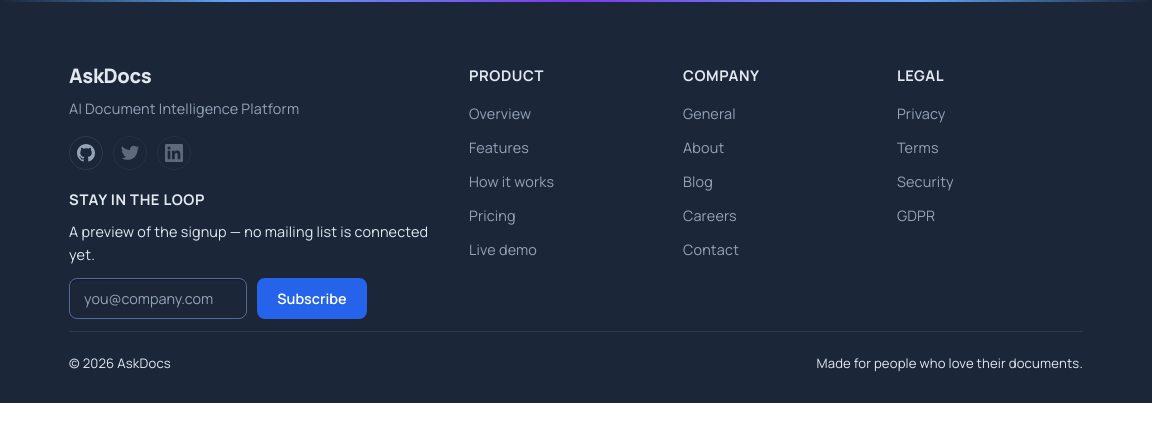
Test: LandingFooter newsletter submit › keeps the typed address and explains the problem when it is not valid
Type "not-an-address" into the field named "email" at (158, 298), box [69,278,247,319]
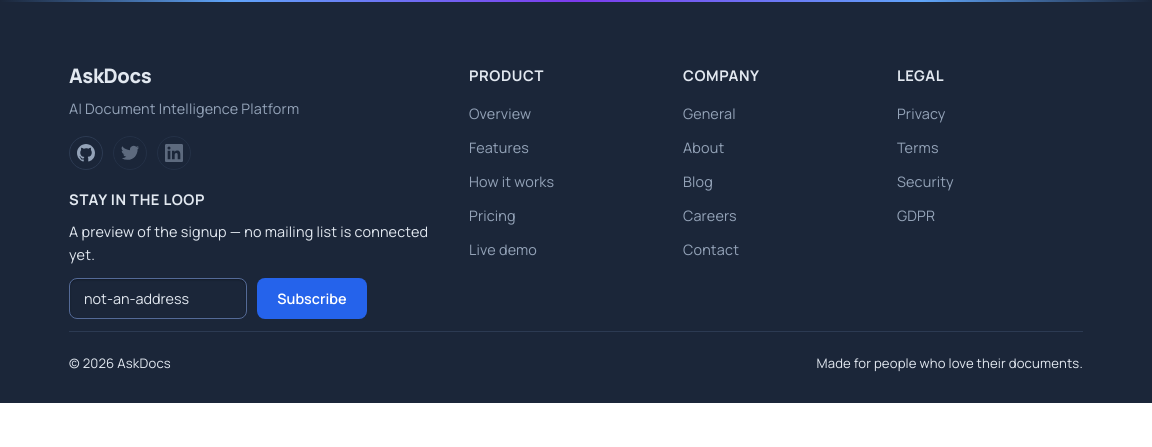
Submit the form with class "newsletter", box [69,188,441,331]
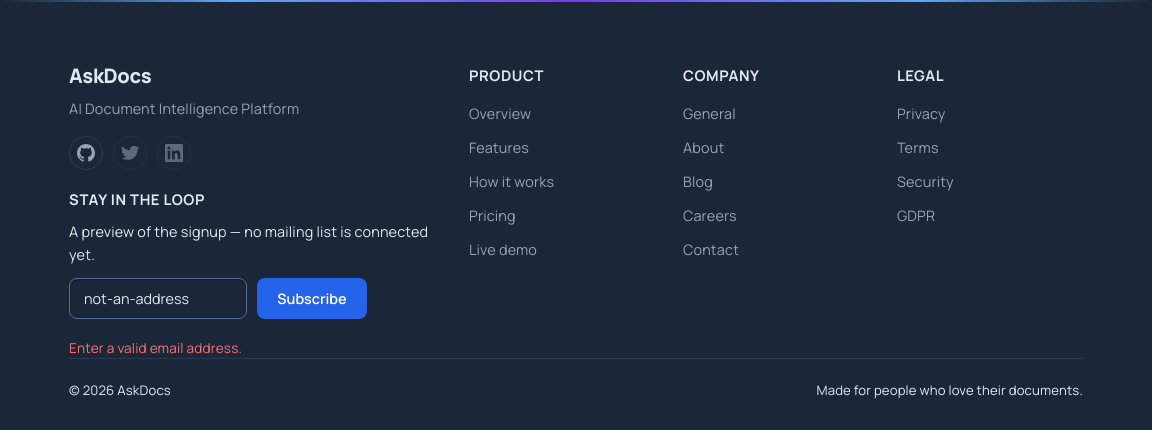
Expected: the message with class "newsletter-status" reads "Enter a valid email address.", [69,339,242,357]
